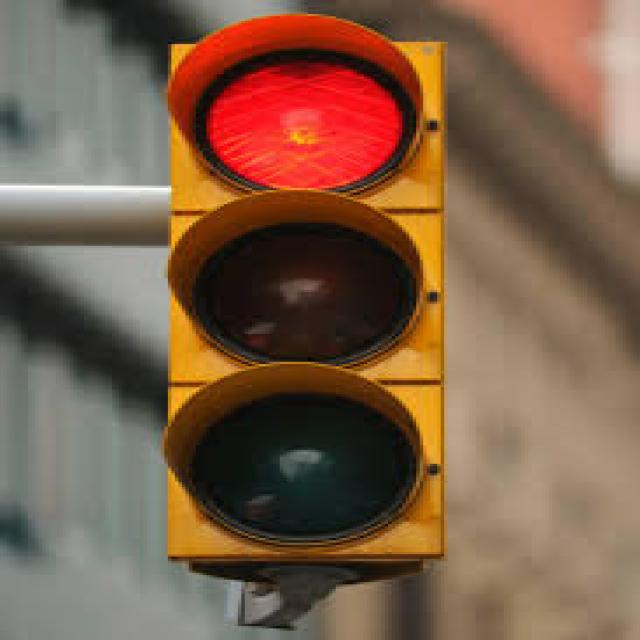red: (171, 51, 400, 186)
